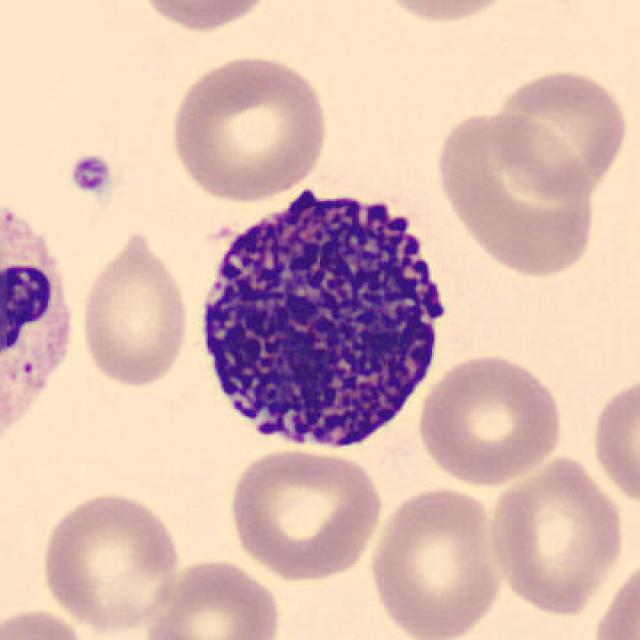Basophil: (181, 170, 464, 466)
Lymphocyte: (0, 178, 84, 473)
Neutrophil: (0, 177, 84, 472)
Platelets: (64, 150, 116, 199)
RBC: (430, 106, 601, 280), (166, 51, 334, 205), (483, 451, 628, 619), (224, 444, 386, 582), (364, 483, 506, 640), (36, 486, 183, 634), (414, 349, 567, 488), (485, 65, 631, 201), (74, 226, 194, 391), (138, 555, 284, 640), (588, 371, 638, 512), (131, 0, 280, 35), (588, 553, 638, 640), (368, 0, 522, 26), (0, 604, 96, 640)
